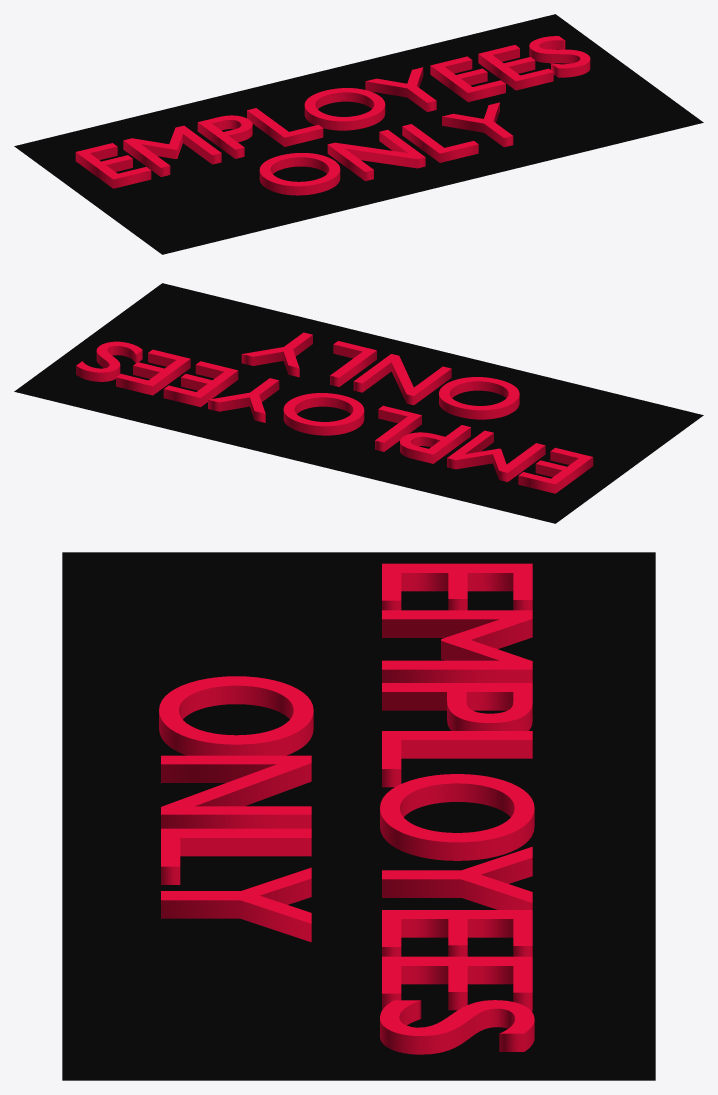
The model's file is employeesign3.fbx.
The picture shows the model from 3 angles, top to bottom: view 1: azimuth 30°, elevation 25°; view 2: azimuth 150°, elevation 25°; view 3: azimuth 270°, elevation 25°; orthographic projection. The views are drawn at different scales.
Visible parts, largest first — view 1: Text; view 2: Text; view 3: Text.
Boxes of the visible parts, left/top/right/bottom form: Text: left=14, top=14, right=703, bottom=254; Text: left=14, top=283, right=703, bottom=523; Text: left=62, top=552, right=655, bottom=1080.
Size of the model in its own units: 421 by 16.33 by 200.
